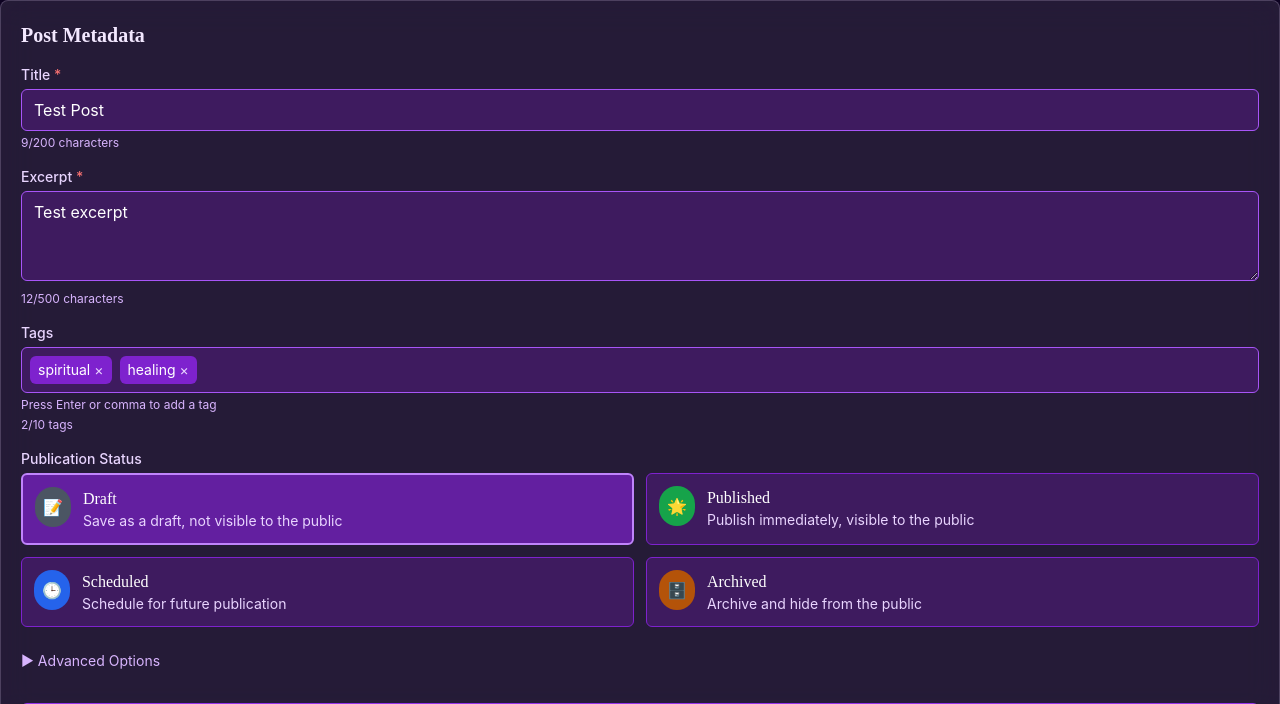
BlogMetadataForm Component › shows advanced options when toggled
Check: the field labelled "seo title" is not shown
Click to show advanced options
Click the text "Advanced Options".
click(99, 661)  # box [38, 651, 160, 671]
(page scrolled)
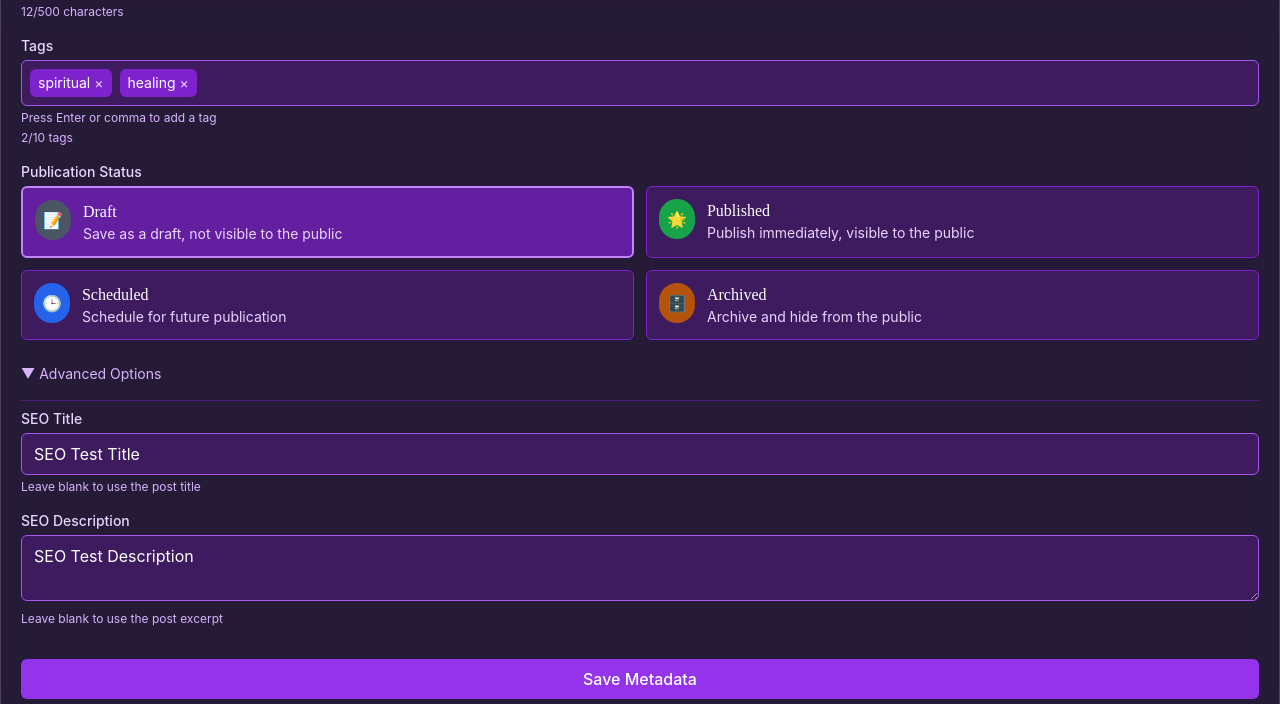
Check: the field labelled "SEO Title" is shown, box [21, 433, 1259, 475]
Check: the text box labelled "SEO Description" is shown, box [21, 535, 1259, 601]
